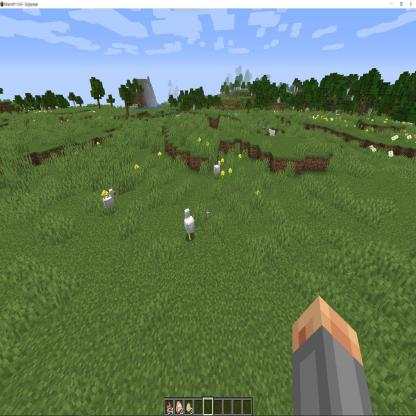minecraft-pigs: (183, 206, 197, 242), (103, 187, 116, 214), (212, 160, 223, 180)
